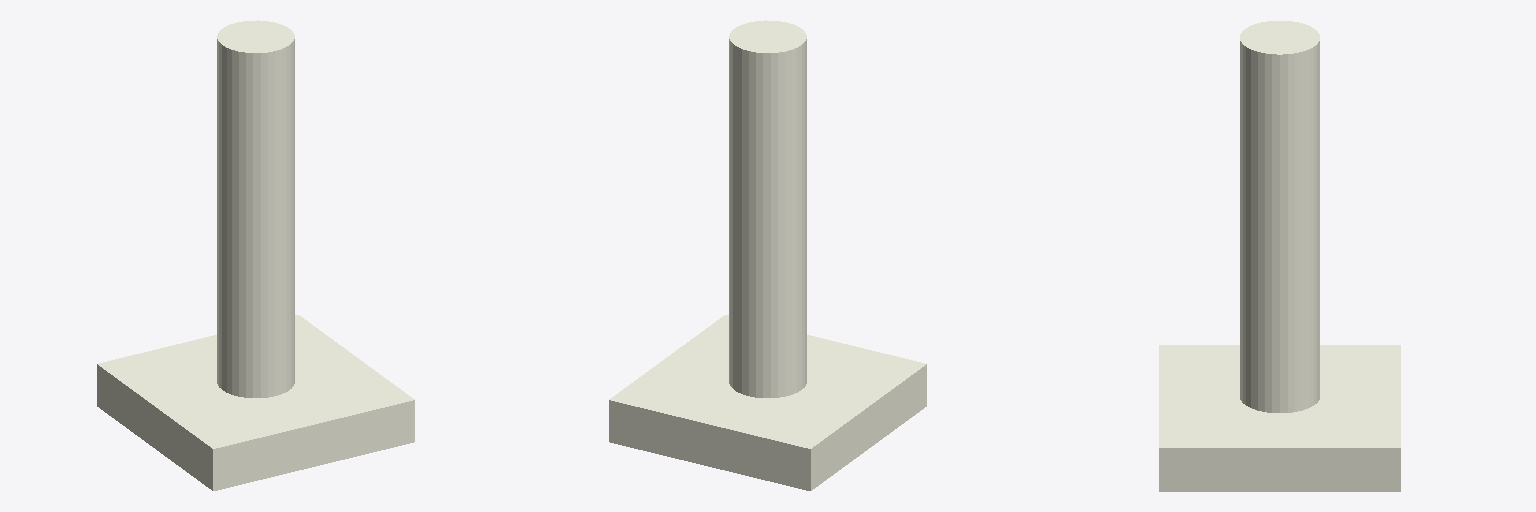
The robot description file, URDF, robot "table.urdf":
<?xml version="1.0" ?>
<robot name="table.urdf">
  <material name="Black">
    <color rgba="0.0 0.0 0.0 1.0"/>
  </material>
  <material name="Blue">
    <color rgba="0.0 0.0 0.8 1.0"/>
  </material>
  <material name="Green">
    <color rgba="0.0 0.8 0.0 1.0"/>
  </material>
  <material name="Grey">
    <color rgba="0.5 0.5 0.5 1.0"/>
  </material>
  <material name="Light_Grey">
    <color rgba="0.8 0.8 0.8 1.0"/>
  </material>
  <material name="Ivory">
    <color rgba="1.0 1.0 0.94 1.0"/>
  </material>
  <material name="Orange">
    <color rgba="1.0 0.423529411765 0.0392156862745 1.0"/>
  </material>
  <material name="Brown">
    <color rgba="0.870588235294 0.811764705882 0.764705882353 1.0"/>
  </material>
  <material name="Red">
    <color rgba="0.8 0.0 0.0 1.0"/>
  </material>
  <material name="White">
    <color rgba="1.0 1.0 1.0 1.0"/>
  </material>
  <link name="baseLink">
    <contact>
      <lateral_friction value="1.0"/>
    </contact>
    <inertial>
      <origin rpy="0 0 0" xyz="0 0 0"/>
       <mass value=".0"/>
       <inertia ixx="1" ixy="0" ixz="0" iyy="1" iyz="0" izz="1"/>
    </inertial>
    <visual>
      <origin rpy="0 0 0" xyz="0 0 0"/>
      <geometry>
        <mesh filename="simple_table_large.obj" scale="1.0 1.0 1.0"/>
      </geometry>
      <material name="Ivory"/>
    </visual>
    <collision>
      <origin rpy="0 0 0" xyz="0 0 0"/>
      <geometry>
        <mesh filename="simple_table_large.obj" scale="1.0 1.0 1.0"/>
      </geometry>
    </collision>
  </link>
  <joint name="table2peg" type="fixed">
    <parent link="baseLink"/>
    <child link="peg"/>
    <!-- <origin rpy="0 0 3.1415" xyz="0.3 -0.1 1.0"/> -->
    <origin rpy="0 0 3.1415" xyz="0.27 -0.09 1.001"/> 
  </joint>
  <link concave="yes" name="peg">
    <visual>
      <origin rpy="0 0 0" xyz="0 0 0"/>
      <geometry>
        <mesh filename="simple_peg.obj" scale="1.0 1.0 1.0"/>
      </geometry>
      <material name="Ivory"/>
    </visual>
    <collision>
      <origin rpy="0 0 0" xyz="0 0 0"/>
      <geometry>
        <mesh filename="simple_peg.obj" scale="1.0 1.0 1.0"/>
      </geometry>
    </collision>
    <contact>
      <lateral_friction value="0.2"/>
    </contact>
  </link>
</robot>

--- What the picture shows (computed from the rendered views, not written in the file) ---
3 views of the same robot in one strip: view 1: azimuth 30°, elevation 25°; view 2: azimuth 150°, elevation 25°; view 3: azimuth 270°, elevation 25° (orthographic).
Robot: table.urdf — 2 links, 1 joints (1 fixed); root link baseLink; default pose: all joints at 0.
Links seen in each view (by area): view 1: peg; view 2: peg; view 3: peg.
Boxes of the visible links, left/top/right/bottom form: peg: left=97, top=20, right=414, bottom=490; peg: left=609, top=20, right=926, bottom=490; peg: left=1159, top=21, right=1400, bottom=491.
Size in the robot's own frame: 0.15 by 0.15 by 0.275 metres.
1 mesh visuals loaded from 2 distinct referenced files (1 OBJ); not drawn: 1 (reference not matched to a file when rendering).